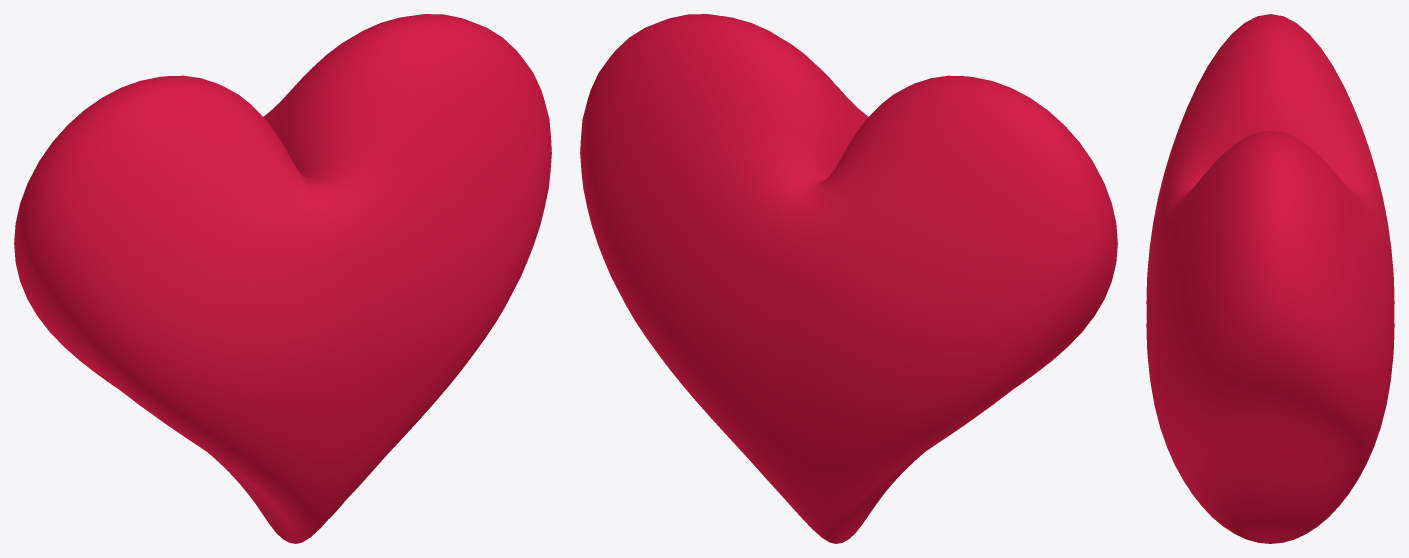
The model's file is health-heart.glb.
The picture shows the model from 3 angles, left to right: view 1: azimuth 30°, elevation 25°; view 2: azimuth 150°, elevation 25°; view 3: azimuth 270°, elevation 25°; orthographic projection. The views are drawn at different scales.
Parts seen in each view (by area): view 1: Health_heart_body; view 2: Health_heart_body; view 3: Health_heart_body.
Boxes of the visible parts, x1,y1,x2,y2 form: Health_heart_body: (14, 14, 551, 543); Health_heart_body: (580, 14, 1117, 543); Health_heart_body: (1146, 14, 1394, 543).
Size of the model in its own units: 1.3 by 1.17 by 0.5739.
